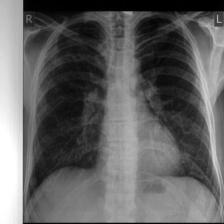tuberculosis: (29, 10, 222, 211)
